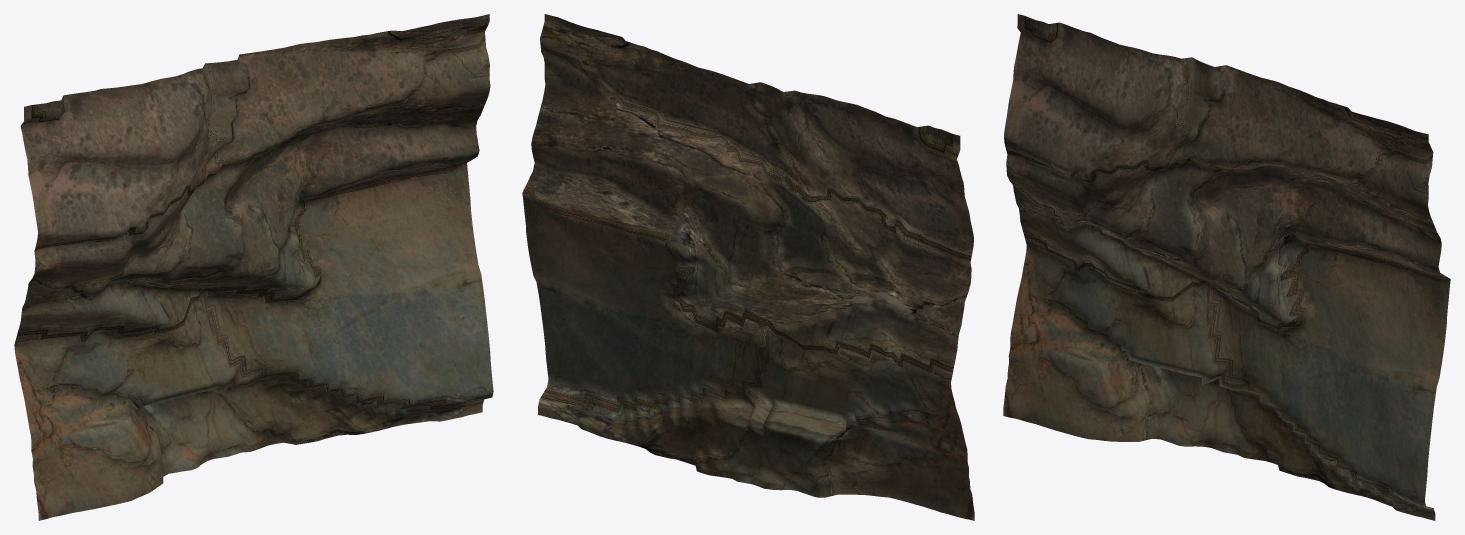
File: rock-face-01.glb
3 renders of one model, left to right at view 1: azimuth 30°, elevation 25°; view 2: azimuth 150°, elevation 25°; view 3: azimuth 330°, elevation 25°, orthographic. The views are drawn at different scales.
Parts seen in each view (by area): view 1: rock_face_01; view 2: rock_face_01; view 3: rock_face_01.
Boxes of the visible parts, x1,y1,x2,y2 form: rock_face_01: (14, 14, 493, 520); rock_face_01: (522, 14, 974, 520); rock_face_01: (1003, 14, 1450, 520).
Bounding box in the file's own units: 3 × 2.6 × 0.4494.
1 material, 1 textured.
